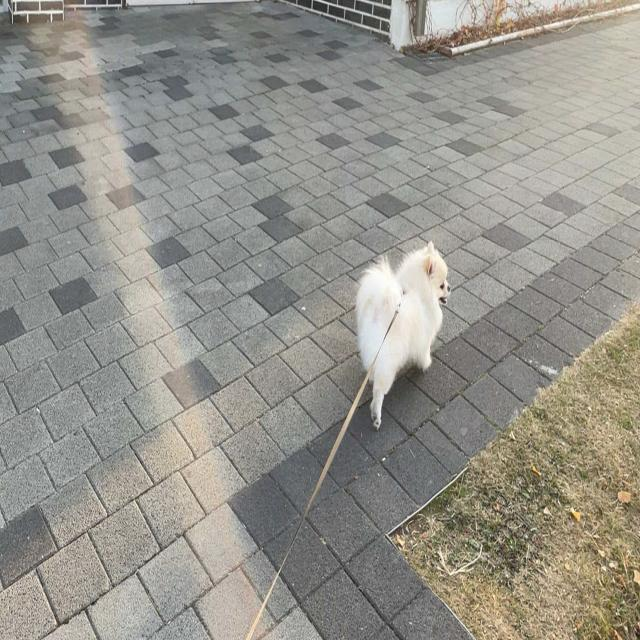Dog: (355, 239, 451, 432)
